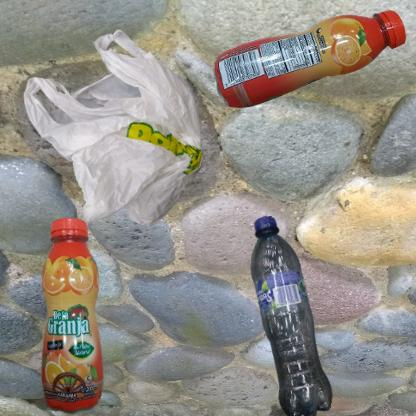bolsa: (10, 10, 275, 296)
botella: (213, 213, 384, 416), (10, 213, 156, 416), (213, 10, 406, 108)
